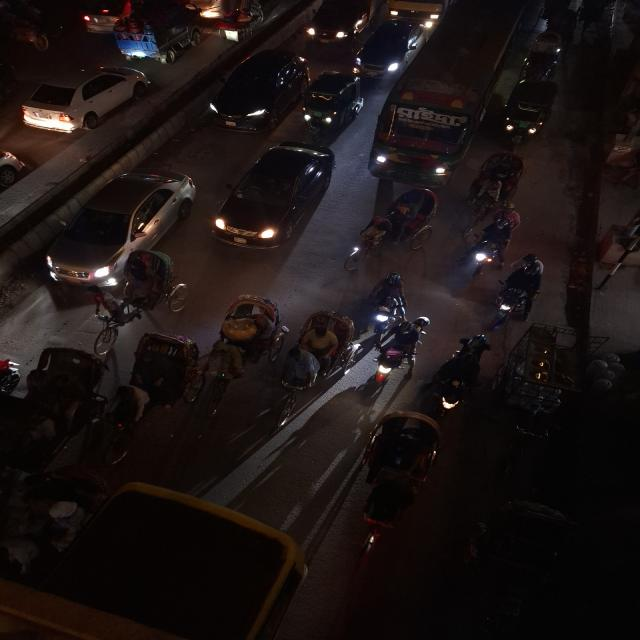bus: (373, 1, 537, 188)
car: (42, 166, 200, 295), (210, 139, 336, 253), (17, 64, 156, 136), (202, 46, 306, 136), (353, 18, 424, 78), (300, 0, 382, 46), (72, 1, 147, 32), (0, 144, 27, 210)
cng: (300, 71, 364, 135), (502, 77, 560, 147), (0, 49, 20, 114)
motorcycle: (432, 332, 489, 417), (367, 316, 429, 394), (492, 252, 550, 331), (468, 213, 520, 277), (370, 269, 409, 333), (0, 346, 24, 406)
pickup_van: (112, 3, 202, 65)
rickshaw: (348, 408, 448, 564), (106, 330, 205, 464), (89, 246, 184, 347), (208, 292, 288, 404), (342, 182, 440, 272), (280, 305, 353, 407), (366, 314, 430, 393), (491, 252, 550, 330), (465, 149, 528, 217), (0, 1, 63, 52), (213, 0, 268, 43), (523, 29, 567, 79)
truck: (384, 0, 473, 22)
